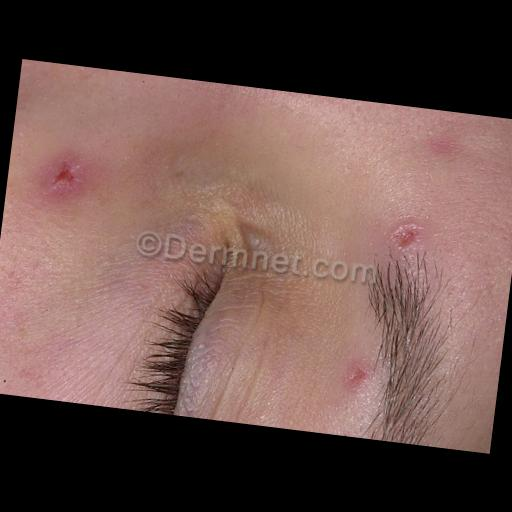Skin_Lesion: (29, 155, 105, 200), (338, 346, 380, 394), (385, 216, 428, 254)
